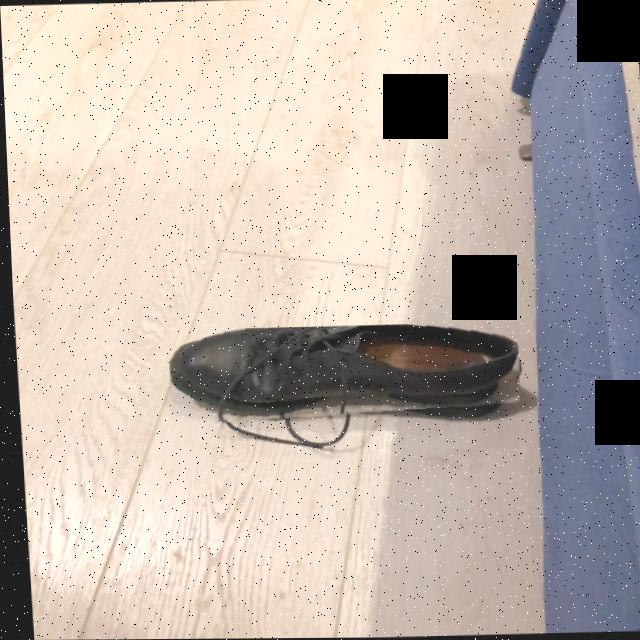shoe: (166, 325, 517, 414)
